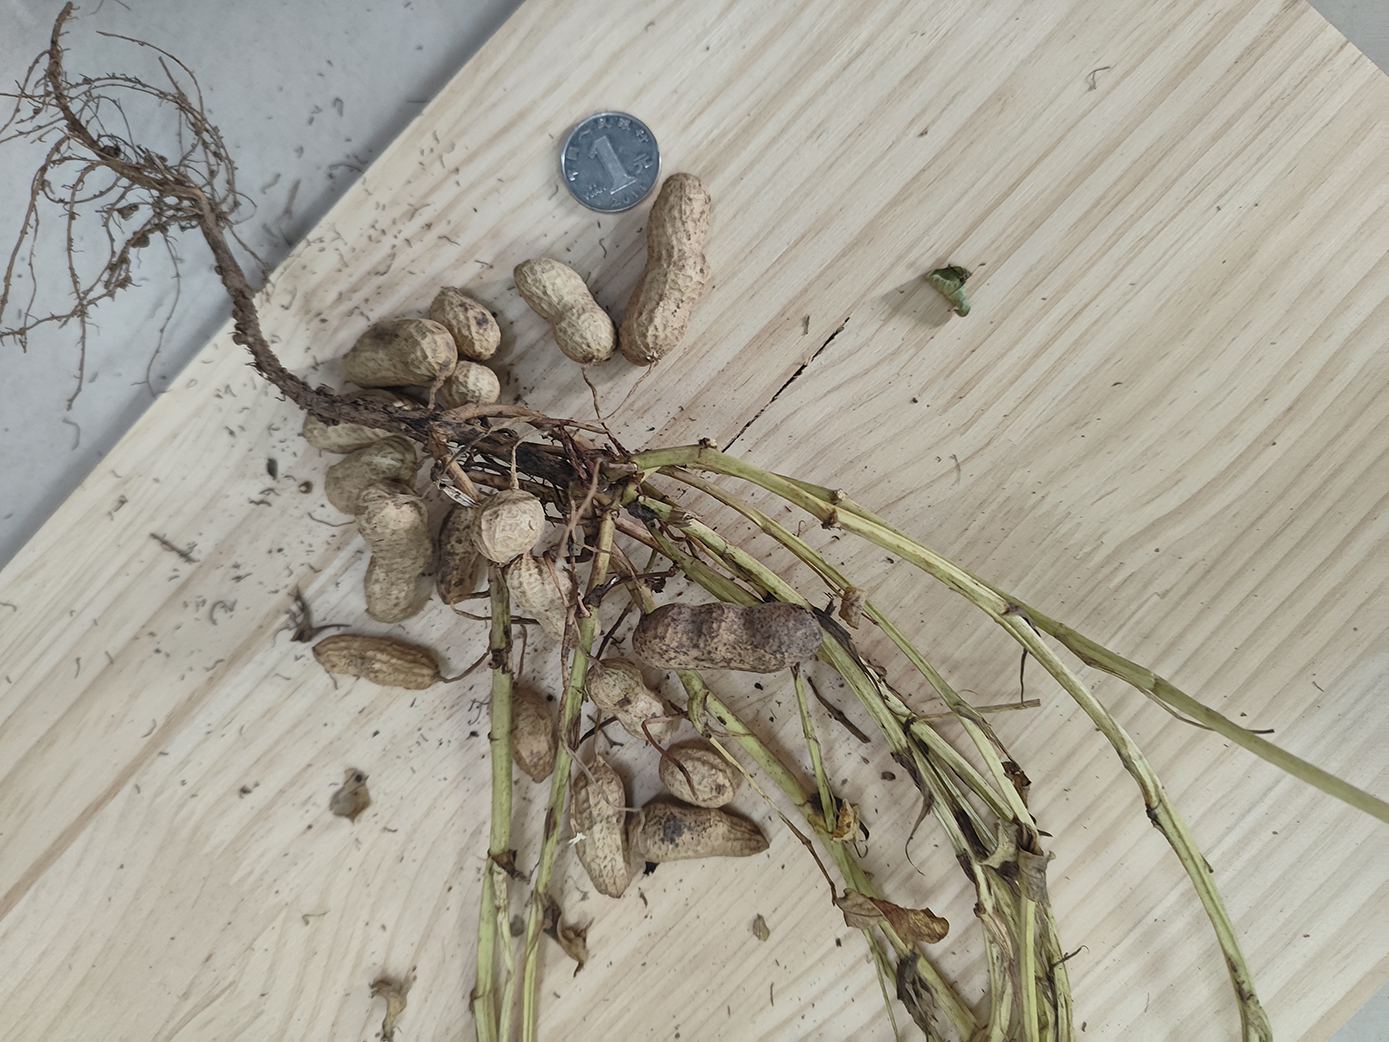h: (620, 172, 711, 363), (514, 258, 615, 367), (358, 481, 432, 624), (507, 554, 600, 655), (630, 799, 771, 864), (567, 760, 632, 898), (483, 683, 562, 790), (342, 319, 459, 389), (587, 661, 682, 745), (326, 436, 421, 516), (303, 390, 423, 452), (312, 636, 440, 694), (477, 491, 549, 563), (658, 743, 736, 807), (430, 288, 499, 358), (436, 502, 479, 607), (425, 363, 500, 412)
l: (633, 604, 824, 673)
